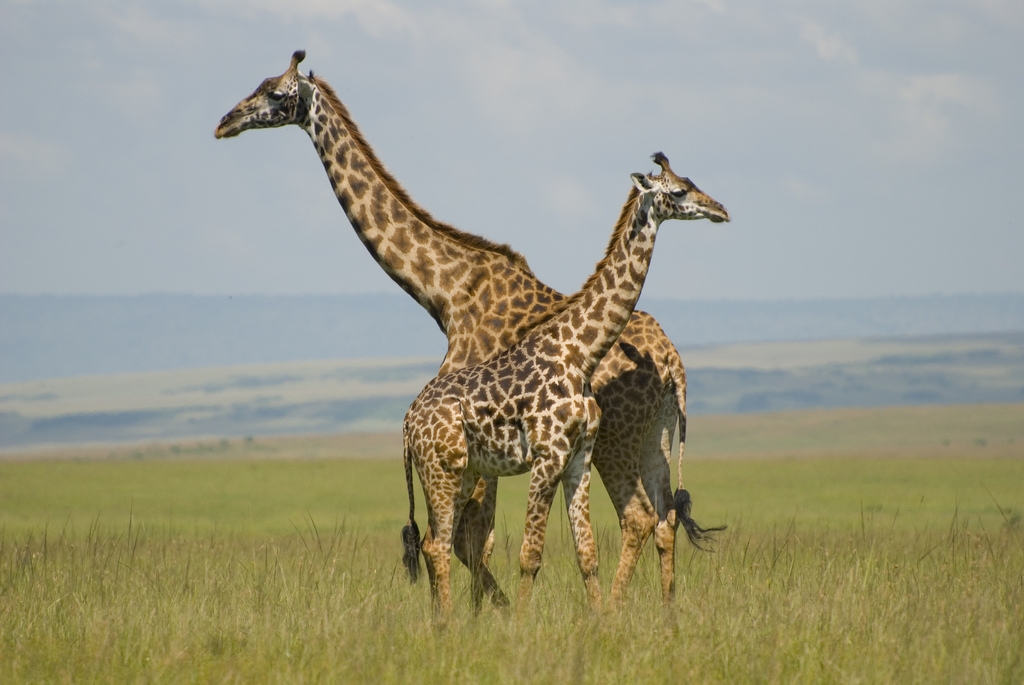giraffe: (190, 60, 659, 560), (401, 149, 737, 599)
